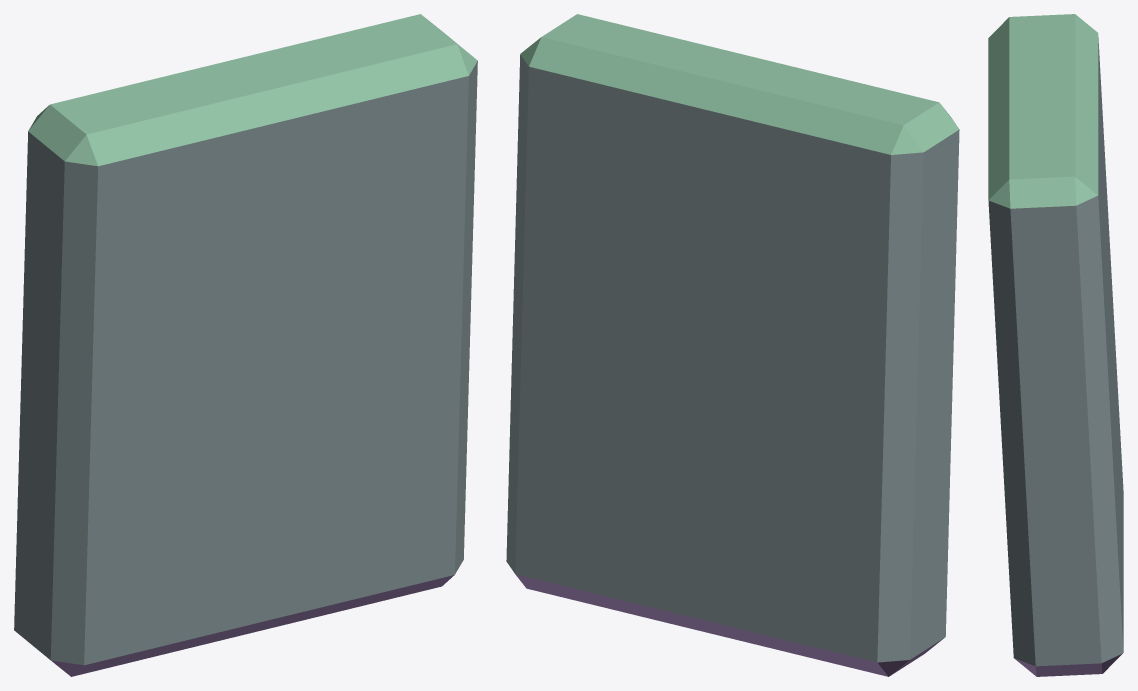
The model's file is npc_module_coat_tail_v01.glb.
The picture shows the model from 3 angles, left to right: view 1: azimuth 30°, elevation 25°; view 2: azimuth 150°, elevation 25°; view 3: azimuth 270°, elevation 25°; orthographic projection. The views are drawn at different scales.
Visible parts, largest first — view 1: GEO_npc_module_coat_tail_v01; view 2: GEO_npc_module_coat_tail_v01; view 3: GEO_npc_module_coat_tail_v01.
Boxes of the visible parts, left/top/right/bottom form: GEO_npc_module_coat_tail_v01: left=14, top=14, right=477, bottom=676; GEO_npc_module_coat_tail_v01: left=506, top=14, right=959, bottom=676; GEO_npc_module_coat_tail_v01: left=988, top=14, right=1123, bottom=676.
Size of the model in its own units: 0.78 by 1 by 0.2457.
